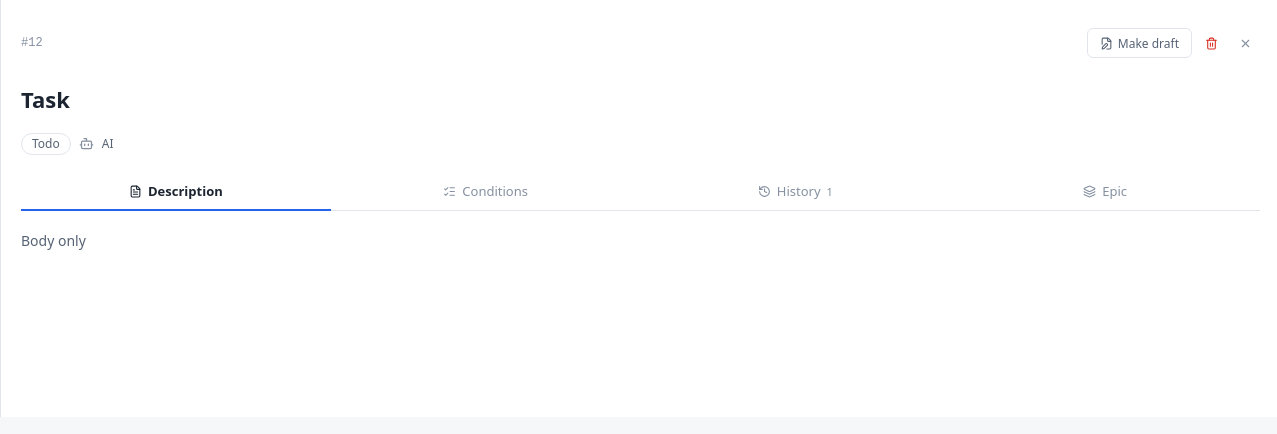
Test: DetailPanel body › shows the body without the frontmatter and the conditions above it
Expected: the text "Body only" is shown, [21, 231, 86, 250]
Expected: the text "Condition 1" is not shown
Click the tab "Conditions": point(486, 192) [331, 173, 641, 211]
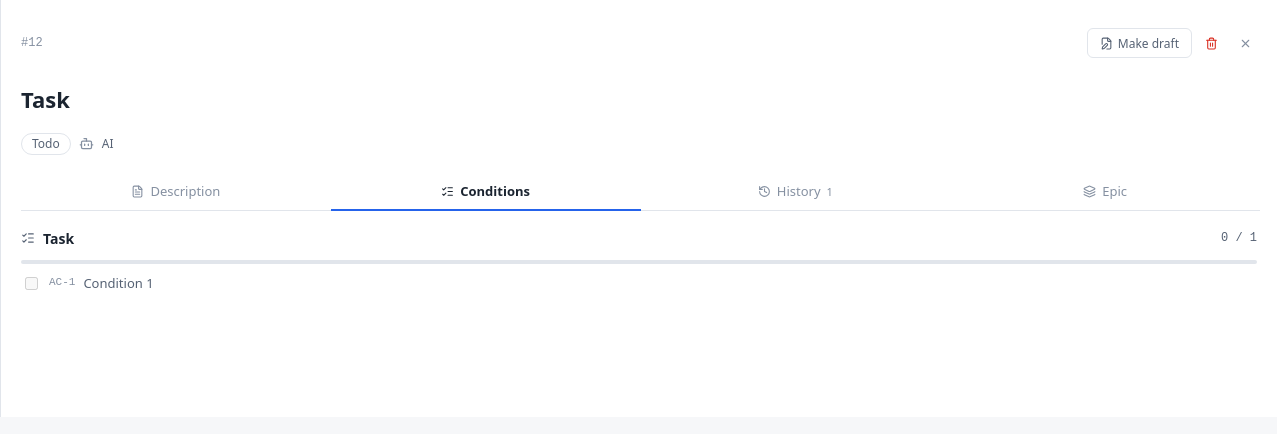
Expected: the text "Condition 1" is shown, [83, 274, 154, 292]
